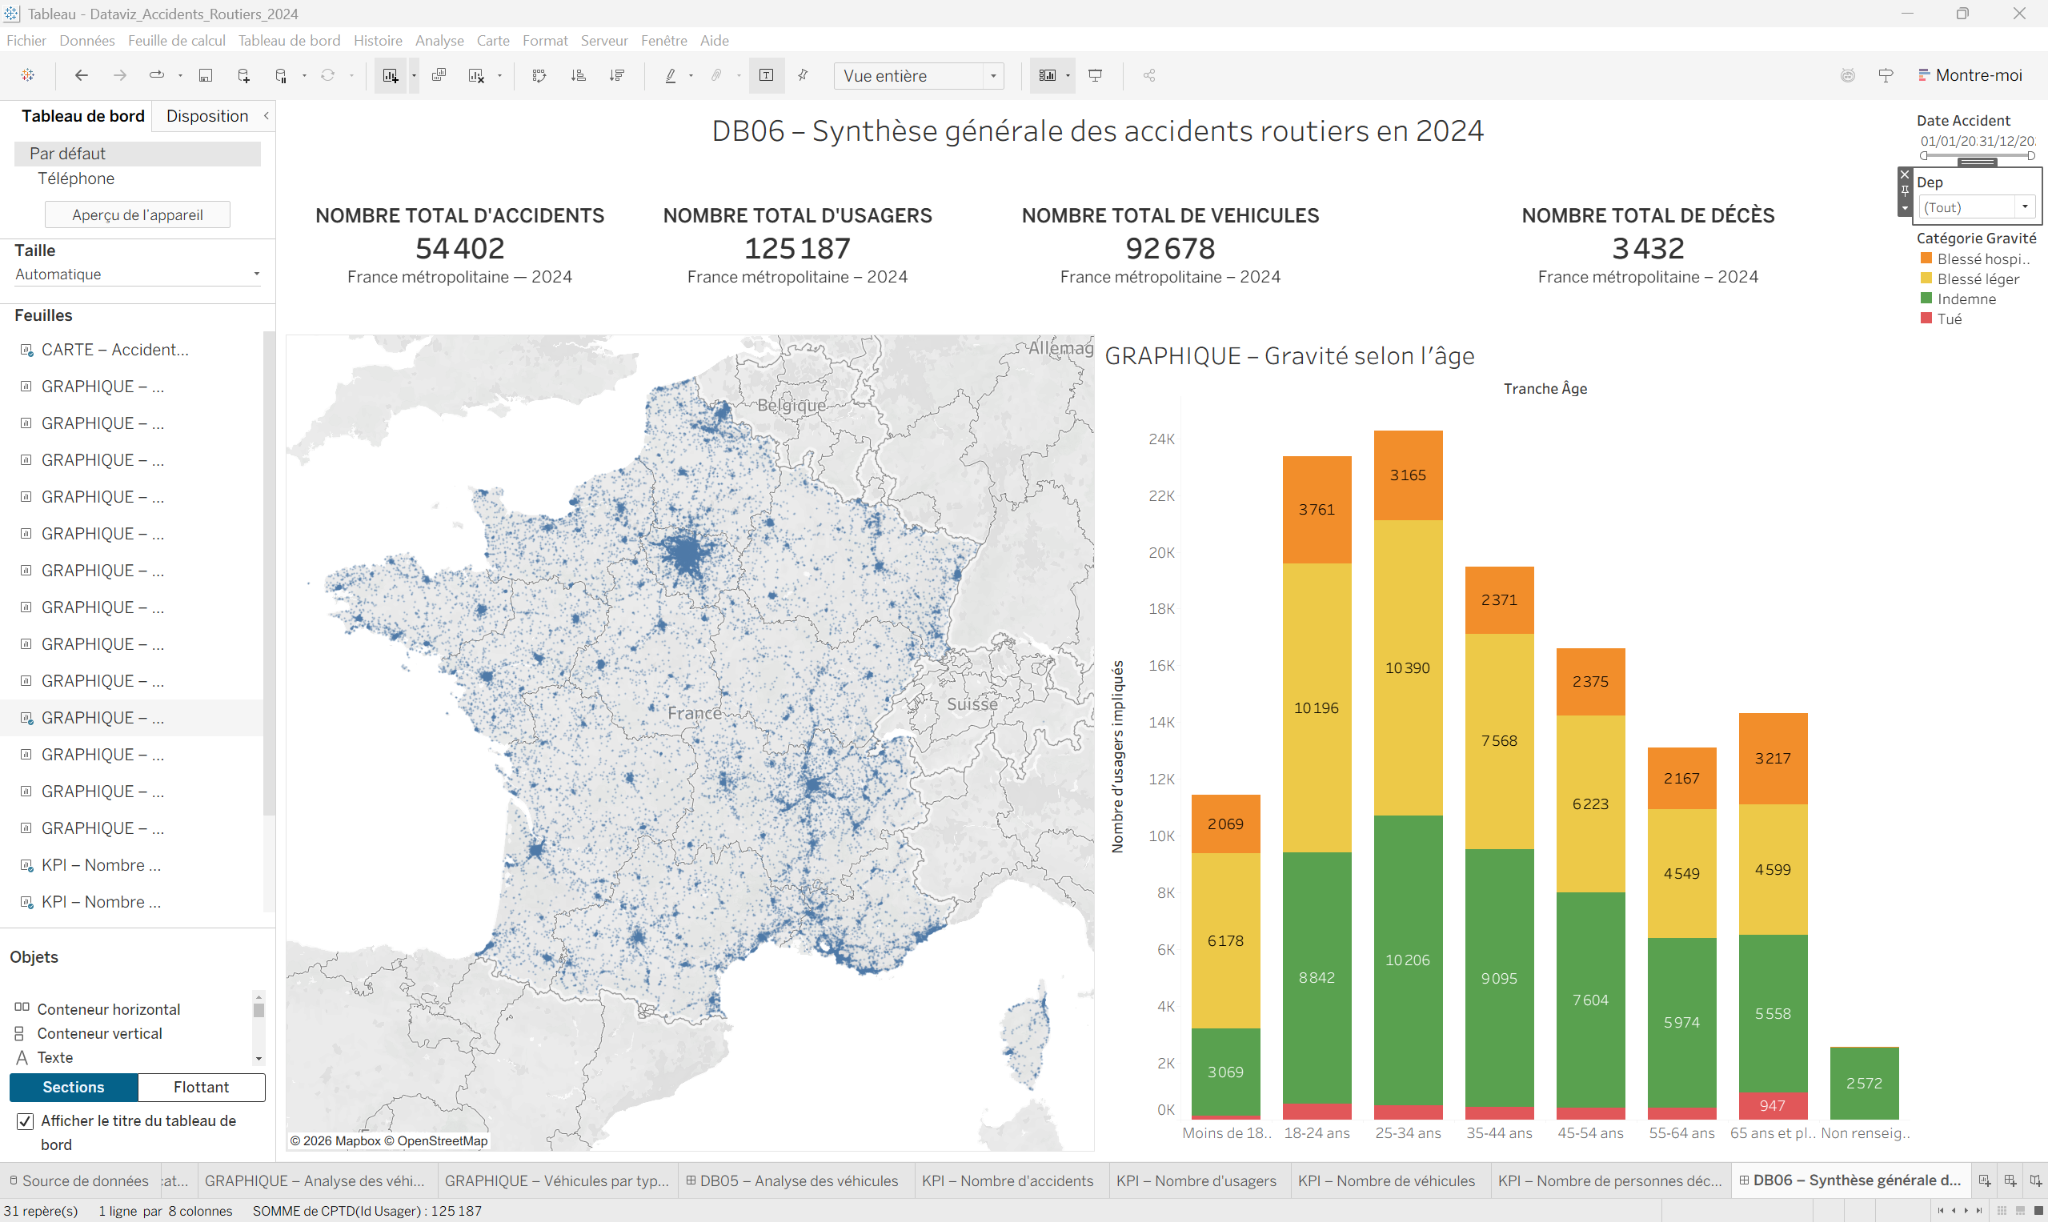

The page's visual inventory and layout, read from the dashboard file:
{"tool":"tableau","page":{"name":"DB06 – Synthèse générale des accidents routiers en 2024","canvas":[1000,1000],"units":"permille","ordinal":5},"visuals":[{"type":"title","box":[3.6,6,920.5,43.7]},{"type":"filter","title":"CARTE – Accidents 2024","param":"[federated.1dc3qo30r3qsj61aflm3n1lx6kel].[none:Calculation_3093267443486720:qk]","box":[924.1,6,72.3,58.1]},{"type":"worksheet","title":"KPI – Nombre d'accidents","mark":"Automatic","box":[3.6,58.1,200.4,159.9]},{"type":"worksheet","title":"KPI – Nombre d'usagers","mark":"Automatic","box":[204,58.1,180.6,159.9]},{"type":"worksheet","title":"KPI – Nombre de véhicules","mark":"Automatic","box":[384.6,58.1,239.9,159.9]},{"type":"worksheet","title":"KPI – Nombre de personnes décédées","mark":"Automatic","box":[624.6,58.1,299.6,159.9]},{"type":"filter","title":"GRAPHIQUE – Gravité selon l'âge","param":"[federated.1dc3qo30r3qsj61aflm3n1lx6kel].[none:dep:nk]","box":[924.1,64.1,72.3,52.8]},{"type":"legend","title":"GRAPHIQUE – Gravité selon l'âge","param":"[federated.1dc3qo30r3qsj61aflm3n1lx6kel].[none:Calculation_2684799220703232:nk]","box":[924.1,116.9,72.3,101]},{"type":"worksheet","title":"CARTE – Accidents 2024","mark":"Circle","rows":["latitude_carte"],"cols":["longitude_carte"],"box":[3.6,218,460.2,776]},{"type":"worksheet","title":"GRAPHIQUE – Gravité selon l'âge","mark":"Bar","rows":["id_usager"],"cols":["Calculation_2684799225167877"],"box":[463.9,218,460.3,776]}]}

Visuals, with their boxes on the dashboard's canvas, which has no fixed pixel size, in thousandths of its width and height (x1, y1, x2, y2). These are canvas units, not pixel positions in the 2048x1222 screenshot, which may show the page scaled, cropped or inside an application window:
title: (4,6,924,50)
"CARTE – Accidents 2024" filter: (924,6,996,64)
"KPI – Nombre d'accidents" worksheet: (4,58,204,218)
"KPI – Nombre d'usagers" worksheet: (204,58,385,218)
"KPI – Nombre de véhicules" worksheet: (385,58,624,218)
"KPI – Nombre de personnes décédées" worksheet: (625,58,924,218)
"GRAPHIQUE – Gravité selon l'âge" filter: (924,64,996,117)
"GRAPHIQUE – Gravité selon l'âge" legend: (924,117,996,218)
"CARTE – Accidents 2024" worksheet (Circle marks): (4,218,464,994)
"GRAPHIQUE – Gravité selon l'âge" worksheet (Bar marks): (464,218,924,994)
